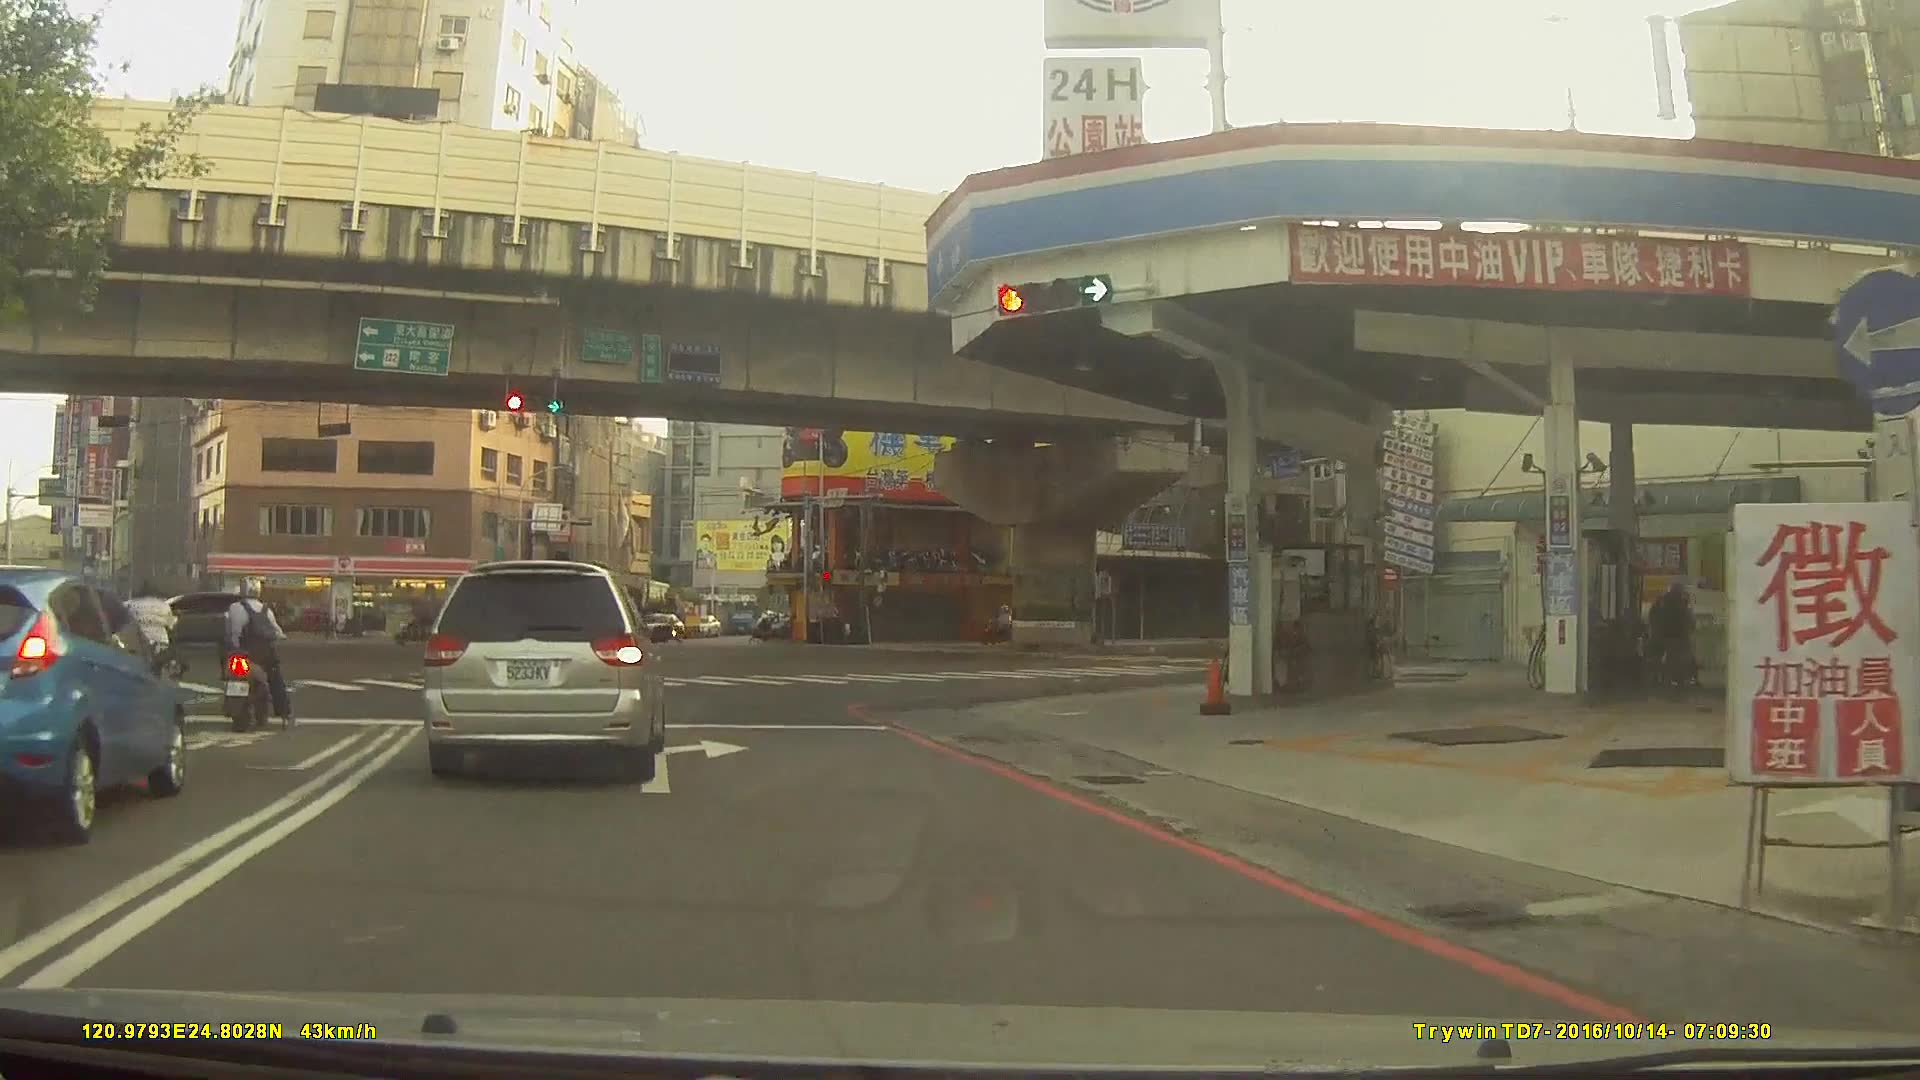rider: (219, 576, 290, 738), (117, 577, 184, 732), (394, 596, 441, 649), (985, 605, 1020, 647)
vehicle: (419, 558, 667, 782), (0, 563, 187, 841), (106, 589, 258, 645), (543, 606, 605, 633)
